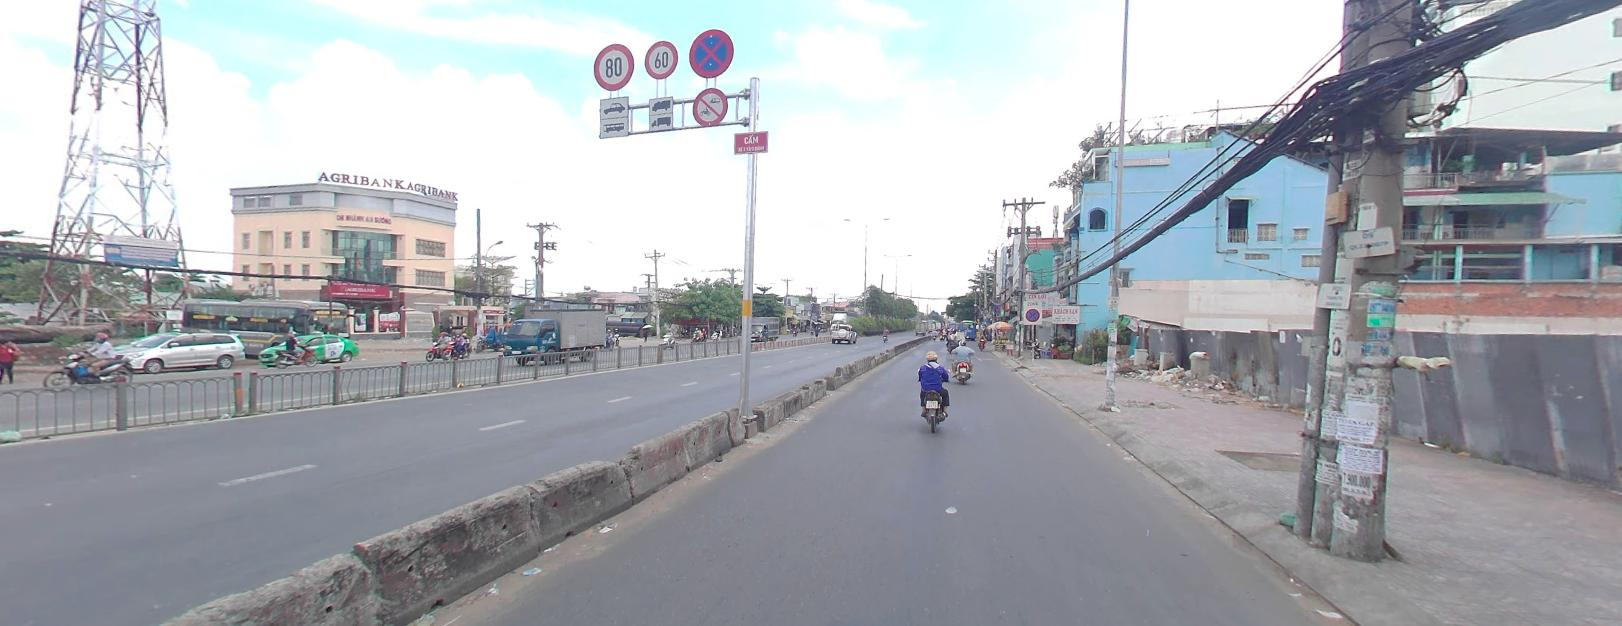Cam con lai: (692, 88, 728, 125)
Cam dung va do: (689, 28, 733, 76), (1024, 306, 1039, 320)
Gioi han toc do: (594, 43, 633, 90), (644, 39, 678, 80)
